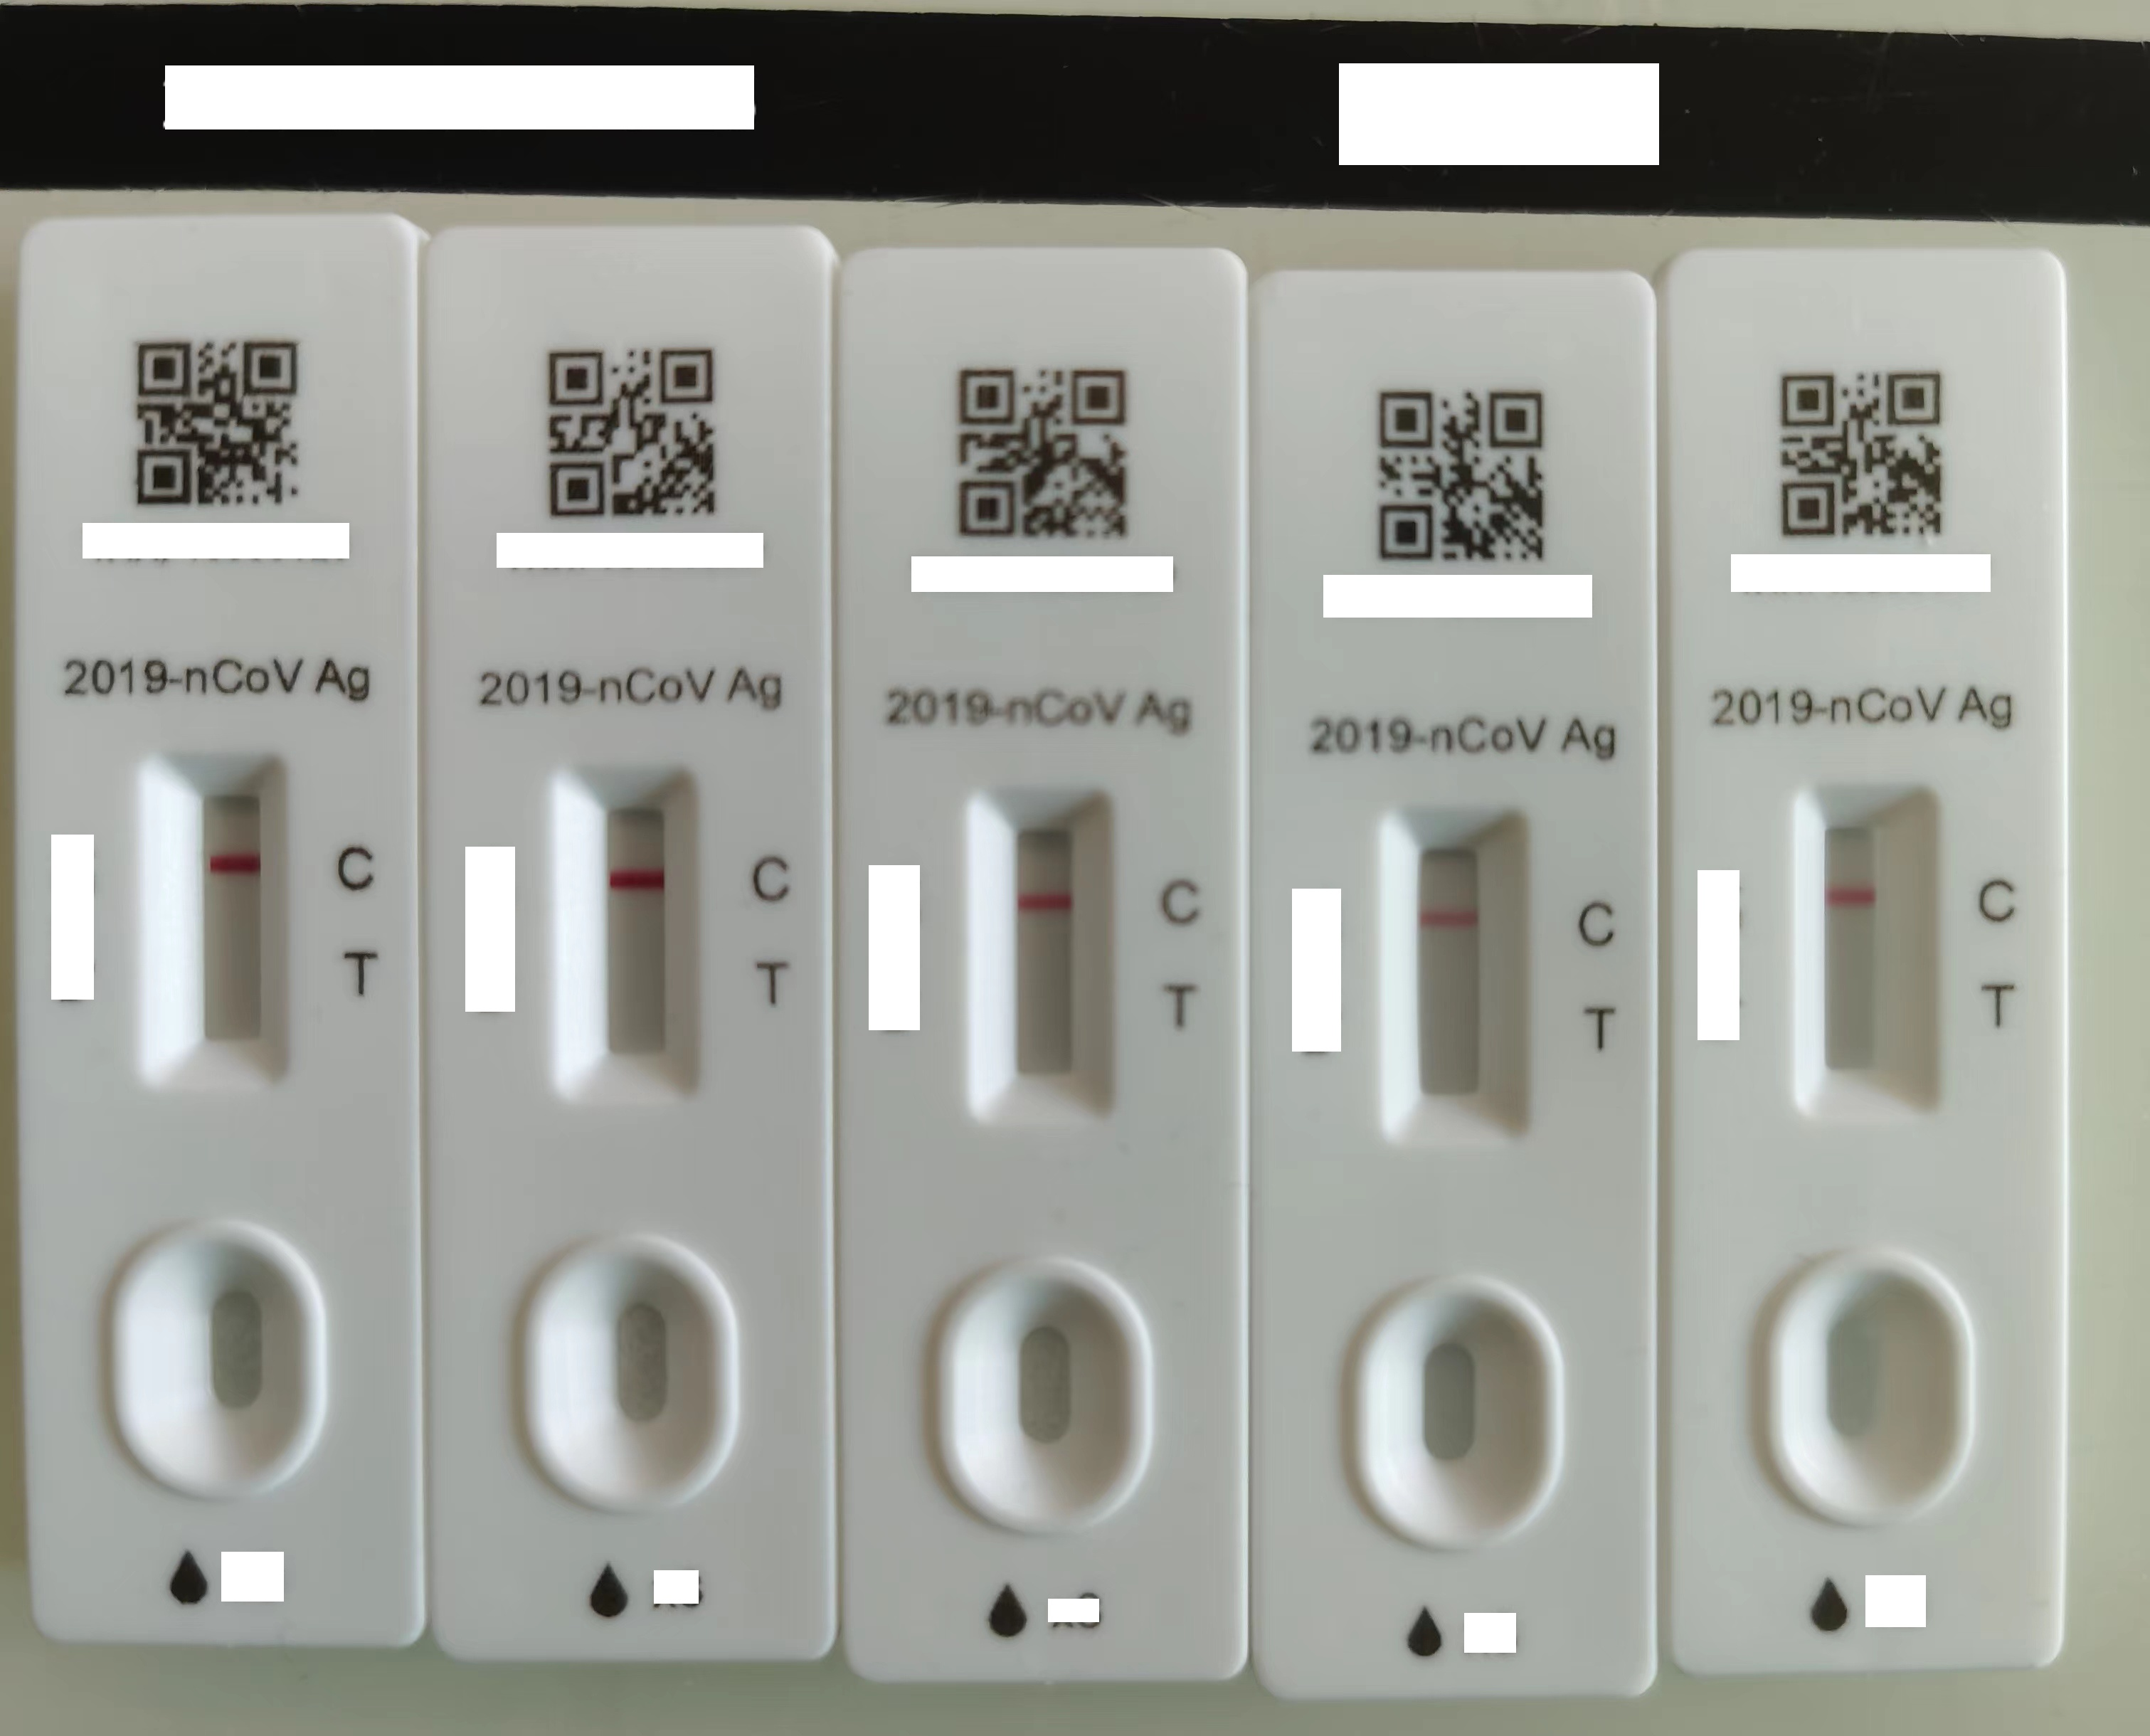negative: (1796, 783, 1950, 1125), (969, 783, 1119, 1128), (1385, 804, 1530, 1139), (561, 758, 701, 1098), (152, 751, 292, 1084)
